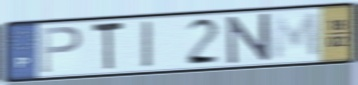2: (181, 17, 224, 66)
I: (140, 19, 155, 71)
M: (271, 10, 322, 62)
N: (225, 11, 273, 66)
P: (39, 24, 84, 75)
T: (91, 20, 127, 74)
